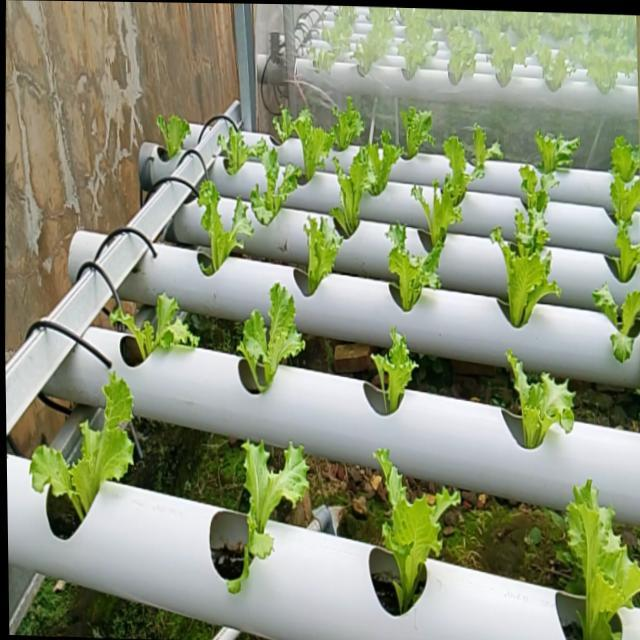Baby: (32, 372, 135, 520), (376, 448, 462, 613), (228, 440, 309, 593), (567, 481, 640, 640), (239, 281, 306, 390), (411, 156, 484, 251), (508, 350, 574, 448), (107, 289, 199, 355), (330, 143, 389, 238), (197, 178, 254, 274), (389, 98, 449, 185), (500, 241, 556, 328), (274, 105, 334, 181), (250, 141, 302, 226), (373, 326, 418, 411), (510, 184, 552, 275), (593, 283, 640, 363), (389, 224, 429, 311), (304, 216, 343, 295), (217, 119, 266, 174), (611, 143, 640, 226), (465, 123, 504, 180), (536, 129, 580, 173), (331, 95, 365, 150), (157, 111, 191, 153)
